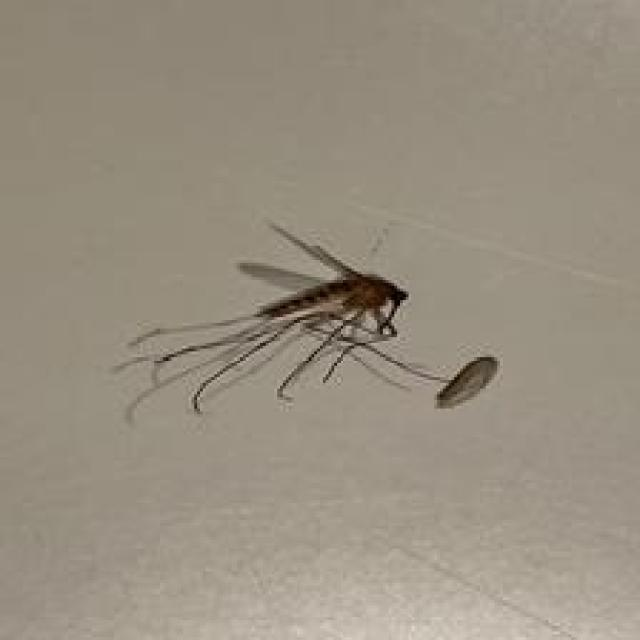Culex: (111, 217, 500, 426)
